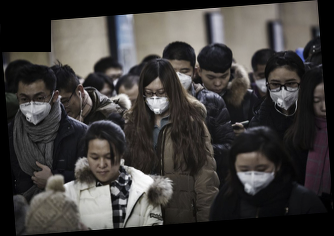with_mask: (235, 161, 276, 197), (19, 89, 54, 125), (269, 76, 302, 111), (144, 84, 171, 115), (173, 65, 194, 90), (253, 69, 269, 94)
without_mask: (87, 149, 122, 182), (201, 69, 232, 93), (59, 93, 83, 119), (312, 92, 326, 125)
